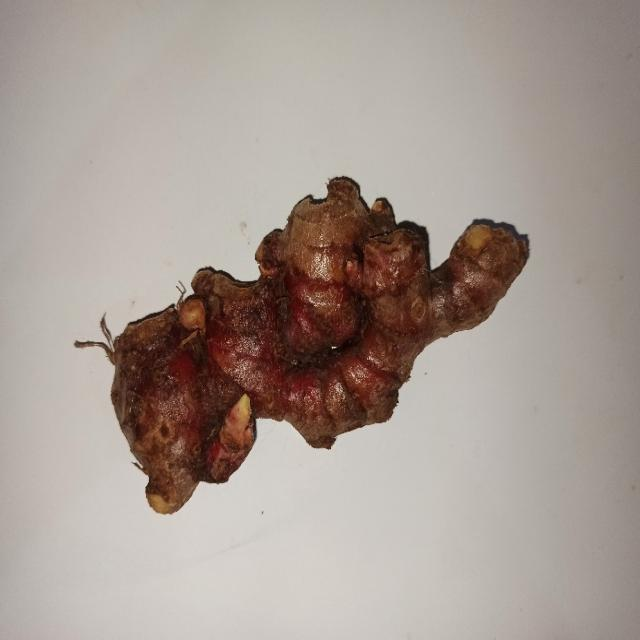ginger: (107, 200, 524, 514)
